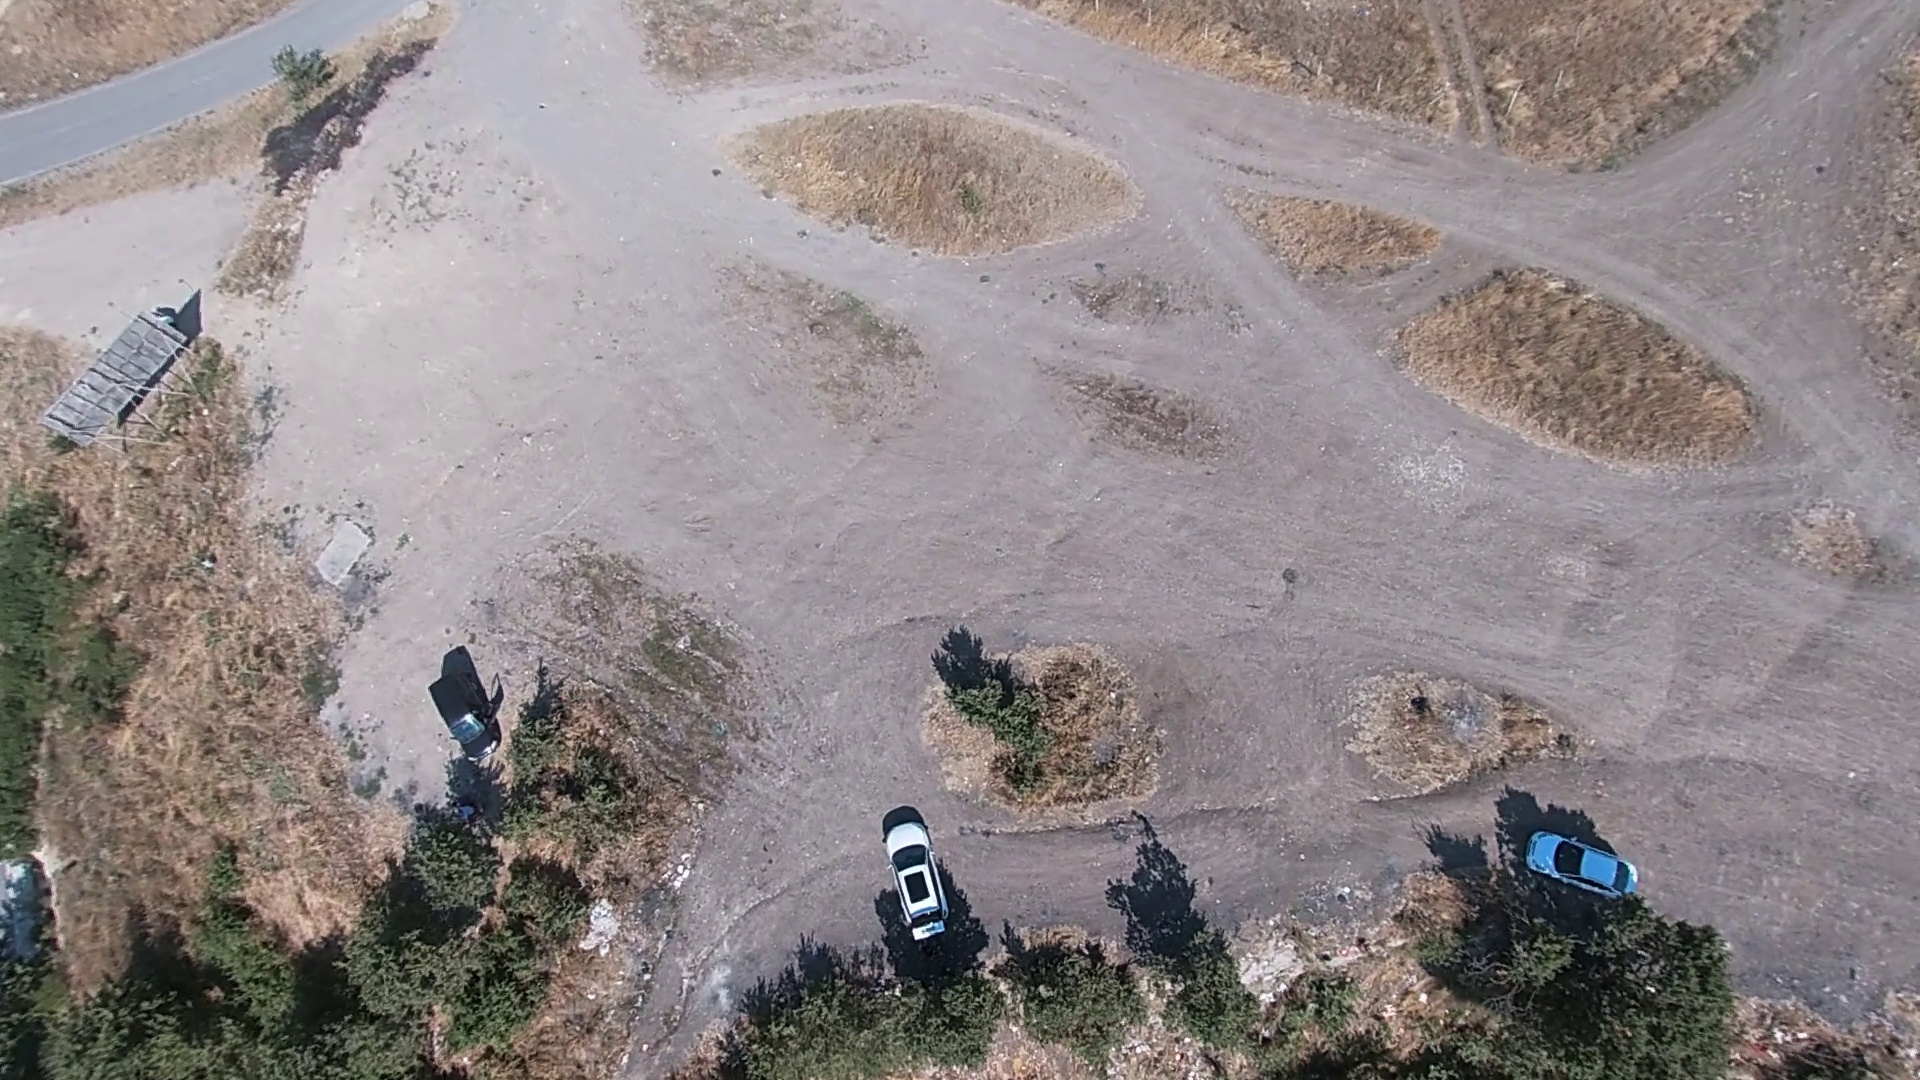araba: (427, 658, 508, 767), (880, 814, 949, 938), (1528, 829, 1646, 901)
